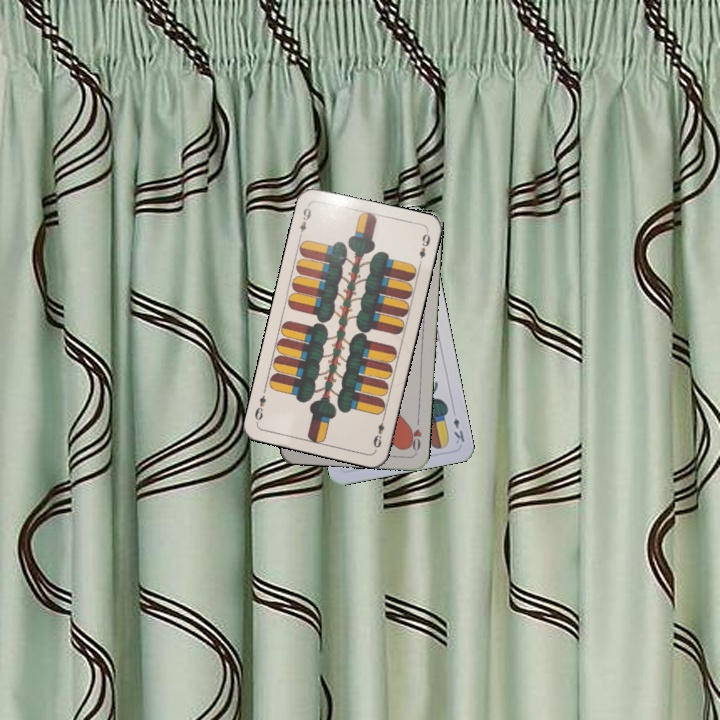E9: (295, 201, 314, 241), (369, 412, 388, 451)
EK: (449, 414, 467, 446)
HO: (405, 414, 424, 455)
